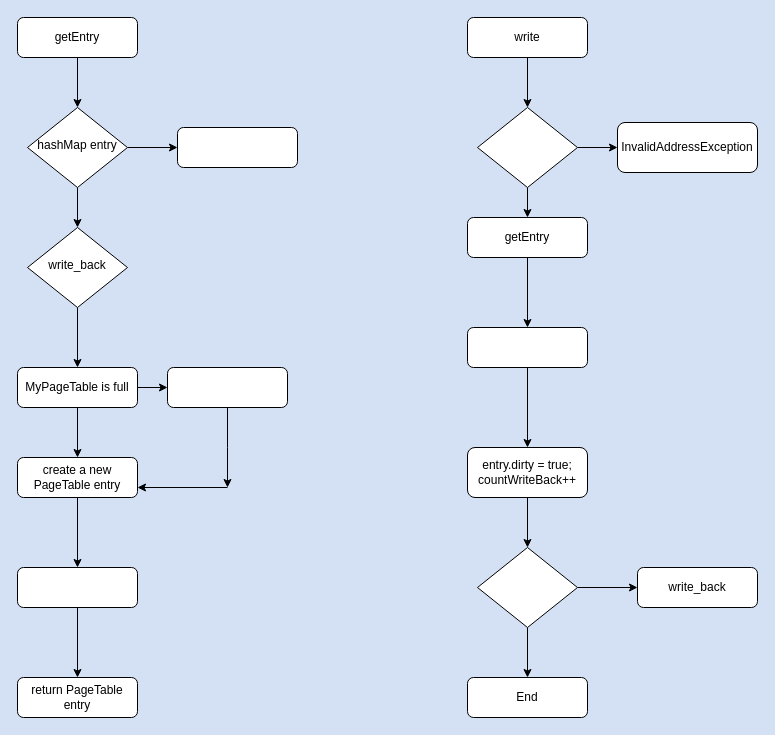
Some shapes in this 775 by 735 pixel diagram are drawn without their labels. Each missing label, with the centre of its shape:
"check address" goes at point (527, 147).
"load data from disk" goes at point (77, 587).
"remove first MyPageTable entry in LinkedList" goes at point (227, 387).
"return entry" goes at point (237, 147).
"write data to PhyMemory" goes at point (527, 347).
"writeCount >= 32" goes at point (527, 587).
